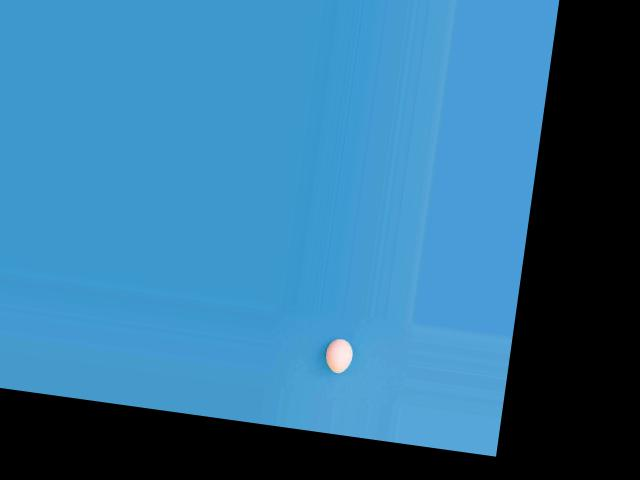egg: (323, 336, 354, 375)
